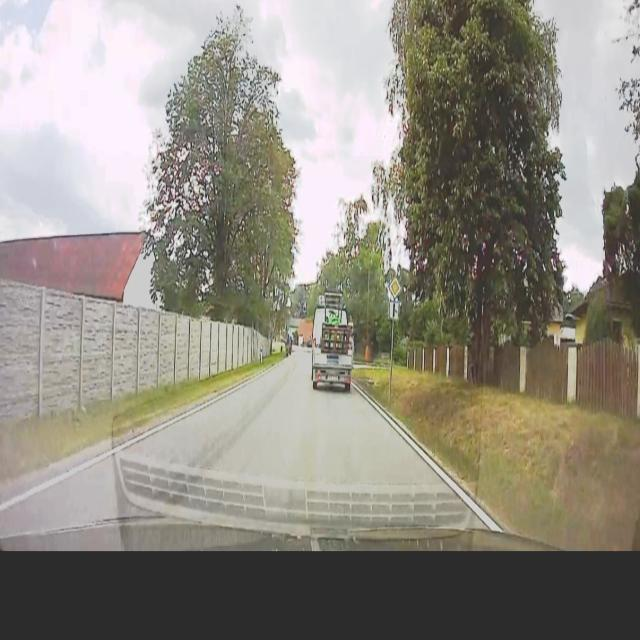Priority road: (388, 274, 402, 301)
